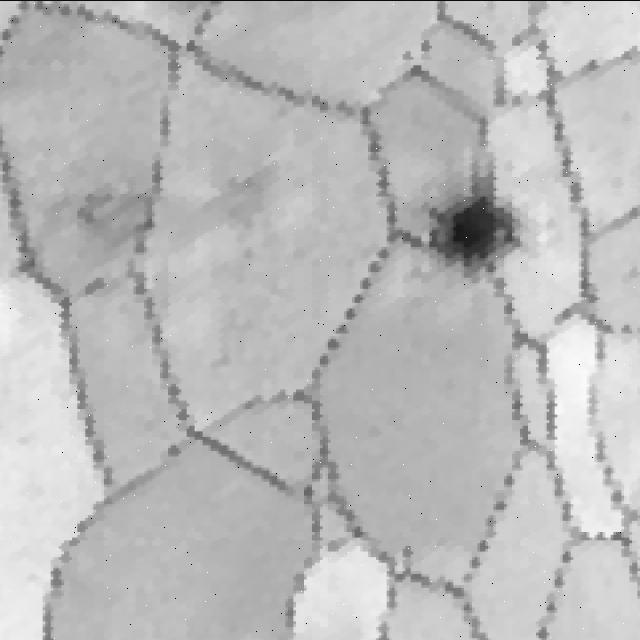good_void: (409, 162, 531, 286), (60, 165, 160, 261), (193, 162, 277, 261), (401, 29, 435, 83)
